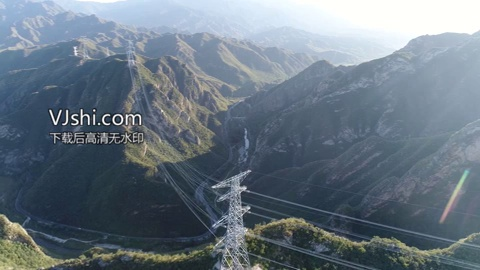tower_body: (207, 165, 257, 270)
tower_foot: (222, 250, 251, 268)
tower_head: (209, 168, 253, 201)
